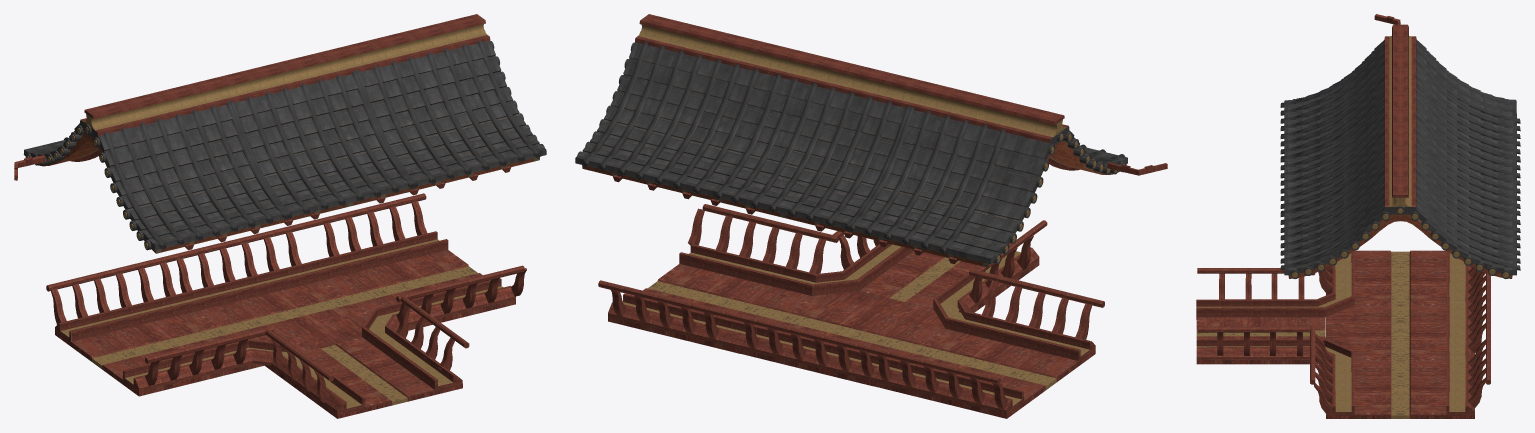
The model's file is pathwayConn.fbx.
The picture shows the model from 3 angles, left to right: view 1: azimuth 30°, elevation 25°; view 2: azimuth 150°, elevation 25°; view 3: azimuth 270°, elevation 25°; orthographic projection. The views are drawn at different scales.
Visible parts, largest first — view 1: polySurface144 (×2), pCube7 (×5), polySurface70, polySurface17 (×6), floor3 (×3), floor4 (×3), pCube9 (×5), floor11, floor12, pCube80, polySurface77 (×3), polySurface82 (×3) (+12 smaller); view 2: polySurface70 (×3), polySurface17 (×6), pCube7 (×5), floor4 (×3), floor3 (×3), pCube9 (×5), polySurface78 (×3), polySurface76 (×3), polySurface82 (×3), polySurface77 (×3), polySurface75 (×3), polySurface79 (×3) (+9 smaller); view 3: polySurface70 (×4), floor4 (×3), floor3 (×3), polySurface144 (×2), pCube7 (×5), polySurface17 (×6), polySurface75 (×6), polySurface77 (×6), polySurface76 (×6), polySurface78 (×6), polySurface82 (×6), pCube82 (+13 smaller).
Boxes of the visible parts, box(x1,y1,x2,y2) form: polySurface144 (×2): box(99, 71, 421, 250); pCube7 (×5): box(55, 231, 515, 391); polySurface70: box(360, 40, 546, 186); polySurface17 (×6): box(80, 14, 490, 138); floor3 (×3): box(55, 250, 473, 365); floor4 (×3): box(97, 270, 515, 396); pCube9 (×5): box(46, 193, 524, 363); floor11: box(328, 337, 462, 403); floor12: box(264, 347, 399, 418); pCube80: box(362, 326, 462, 389); polySurface77 (×3): box(175, 52, 489, 232); polySurface82 (×3): box(140, 61, 454, 240); polySurface70 (×3): box(575, 42, 1050, 264); polySurface17 (×6): box(635, 14, 1069, 144); pCube7 (×5): box(608, 244, 1095, 413); floor4 (×3): box(652, 264, 1095, 385); floor3 (×3): box(608, 285, 1051, 418); pCube9 (×5): box(598, 204, 1104, 384); polySurface78 (×3): box(655, 59, 987, 249); polySurface76 (×3): box(617, 50, 949, 240); polySurface82 (×3): box(673, 64, 1005, 254); polySurface77 (×3): box(635, 54, 967, 245); polySurface75 (×3): box(598, 45, 930, 235); polySurface79 (×3): box(581, 41, 913, 231); polySurface70 (×4): box(1284, 40, 1516, 275); floor4 (×3): box(1326, 250, 1400, 418); floor3 (×3): box(1400, 250, 1474, 418); polySurface144 (×2): box(1284, 40, 1384, 216); pCube7 (×5): box(1326, 251, 1474, 414); polySurface17 (×6): box(1384, 24, 1416, 212); polySurface75 (×6): box(1280, 87, 1520, 263); polySurface77 (×6): box(1280, 72, 1520, 248); polySurface76 (×6): box(1280, 79, 1520, 255); polySurface78 (×6): box(1280, 64, 1520, 240); polySurface82 (×6): box(1280, 56, 1520, 232); pCube82: box(1196, 299, 1325, 317).
Size of the model in its own units: 9.98 by 5.03 by 6.51.
